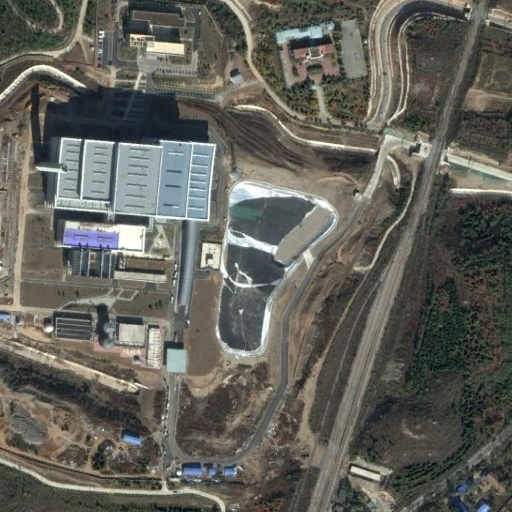lf: (218, 179, 336, 355)
